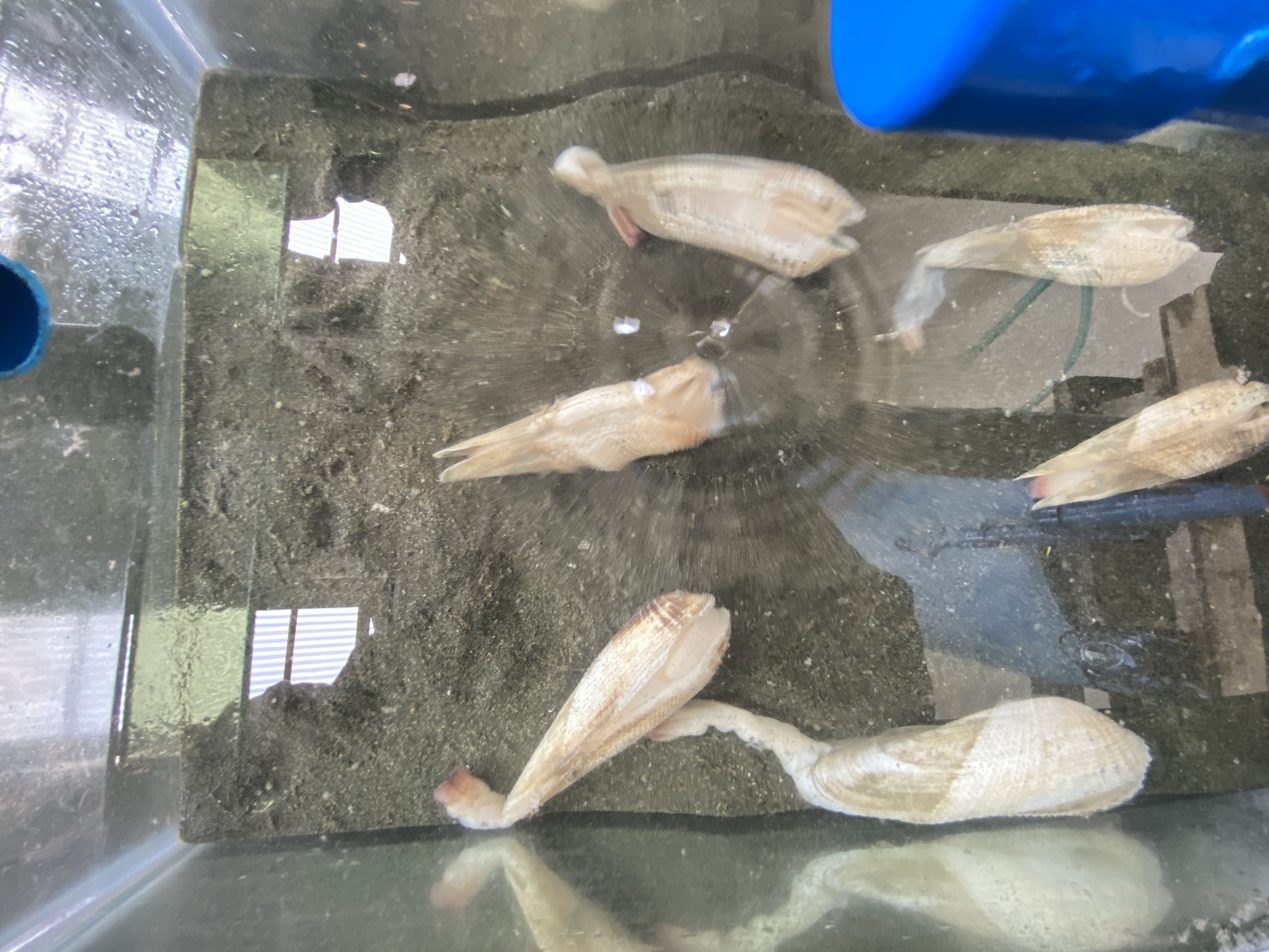At risk: (435, 591, 730, 830), (647, 697, 1151, 824), (893, 204, 1199, 349), (552, 146, 866, 277), (434, 356, 724, 481), (1016, 379, 1269, 508)
